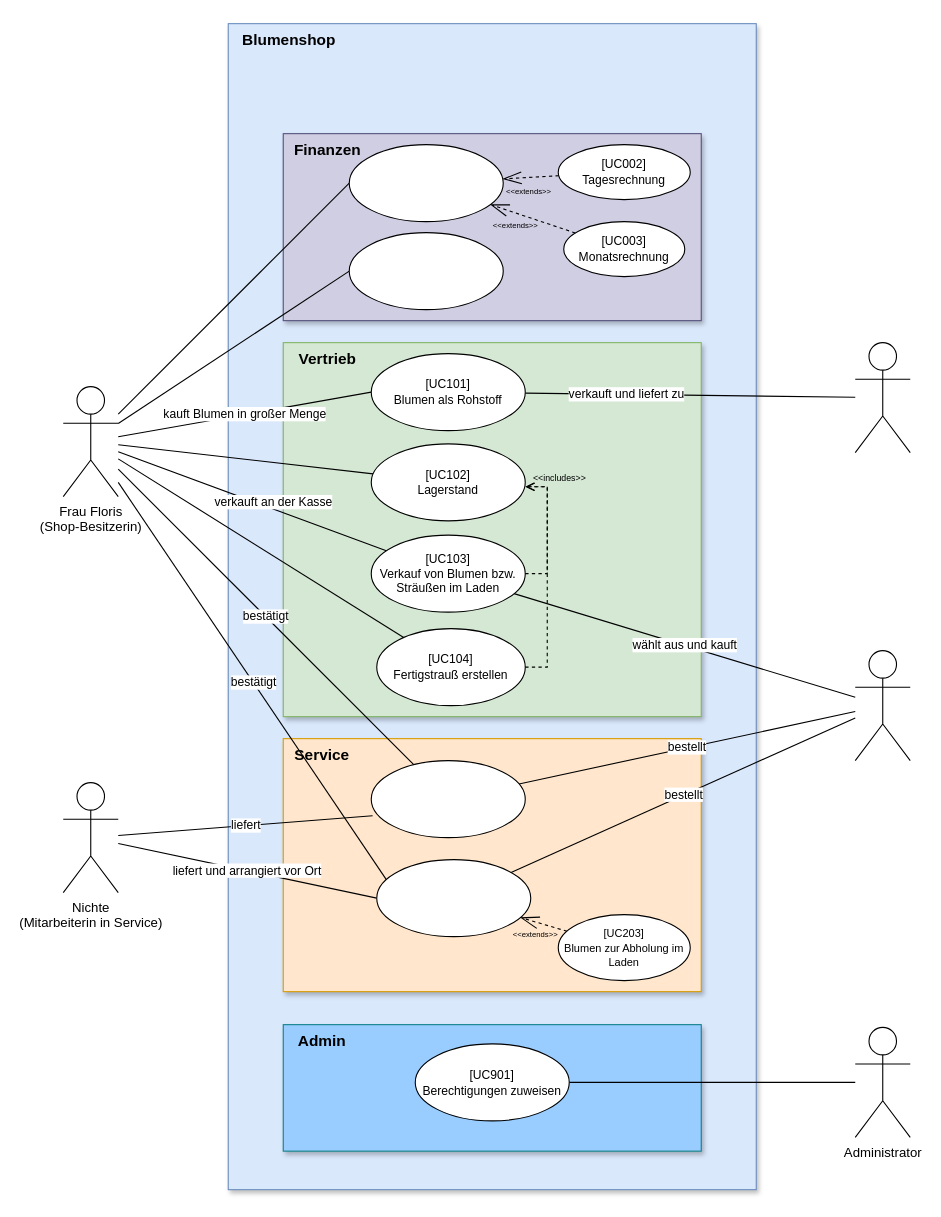
This 941x1217 diagram has some shape labels left out. Each missing label, with the centre of its shape:
"[UC001] Rechnungen verwalten" belongs at pixel 425 183.
"[UC004] Verwelkten Blumen als Verlust berechnen" belongs at pixel 425 271.
"[UC201] Eine Veranstaltung mit Blumen ausstatten" belongs at pixel 447 799.
"[UC202] Ein- bzw. mehrmaliges Blumenservice" belongs at pixel 453 898.
"Großhändler" belongs at pixel 882 397.
"Kunde" belongs at pixel 882 705.
